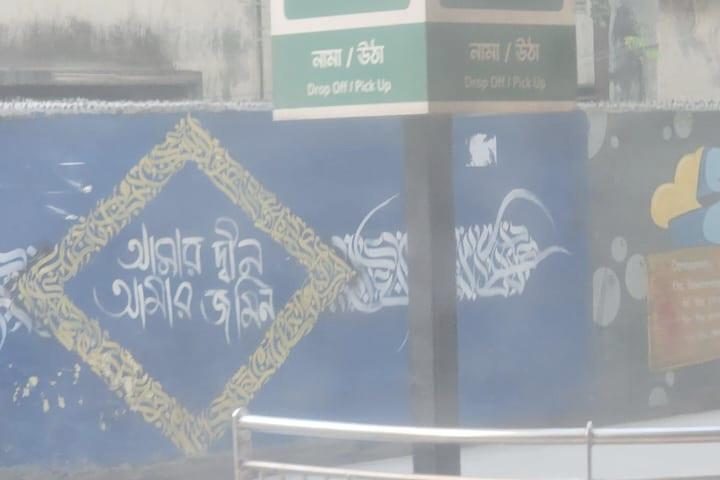Metro Dorp Up Pick up: (266, 0, 582, 118)
